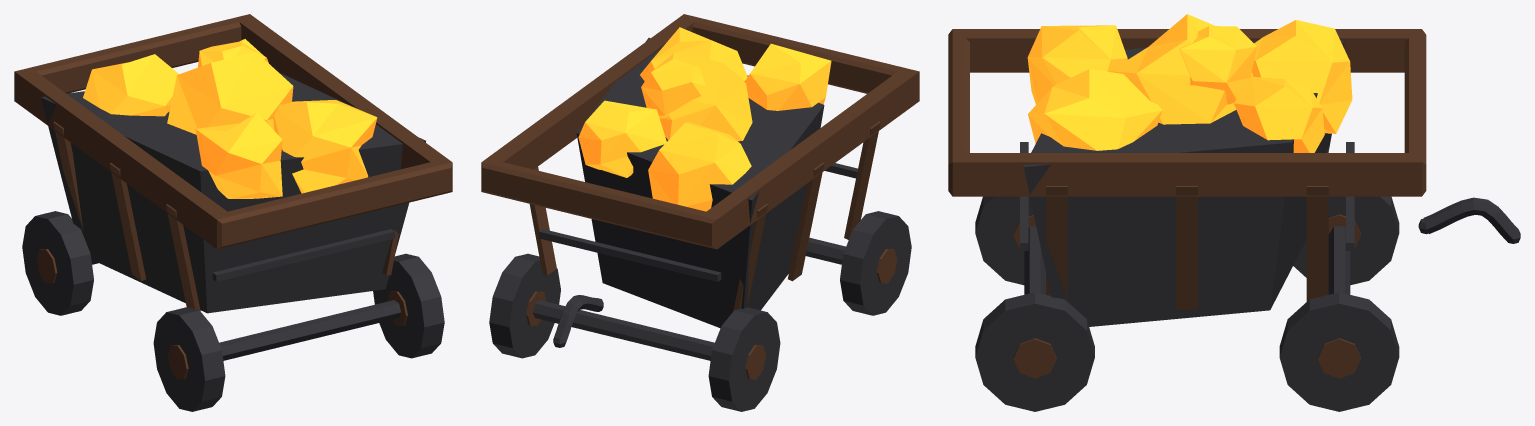
Rendered from LAVA_MINECART.glb.
3 renders of one model, left to right at view 1: azimuth 30°, elevation 25°; view 2: azimuth 150°, elevation 25°; view 3: azimuth 270°, elevation 25°, orthographic. The views are drawn at different scales.
Visible parts, largest first — view 1: PropCharcoal, WoodDark, Glow; view 2: PropCharcoal, WoodDark, Glow; view 3: PropCharcoal, WoodDark, Glow.
Part boxes in pixels (x1,y1,x2,y2): PropCharcoal: (22,72,444,411); WoodDark: (14,14,452,379); Glow: (83,39,377,198); PropCharcoal: (489,37,911,411); WoodDark: (481,14,919,379); Glow: (578,27,831,211); PropCharcoal: (975,40,1520,411); WoodDark: (948,29,1426,378); Glow: (1027,14,1352,152).
Bounding box in the file's own units: 2.8 × 3 × 4.89.
